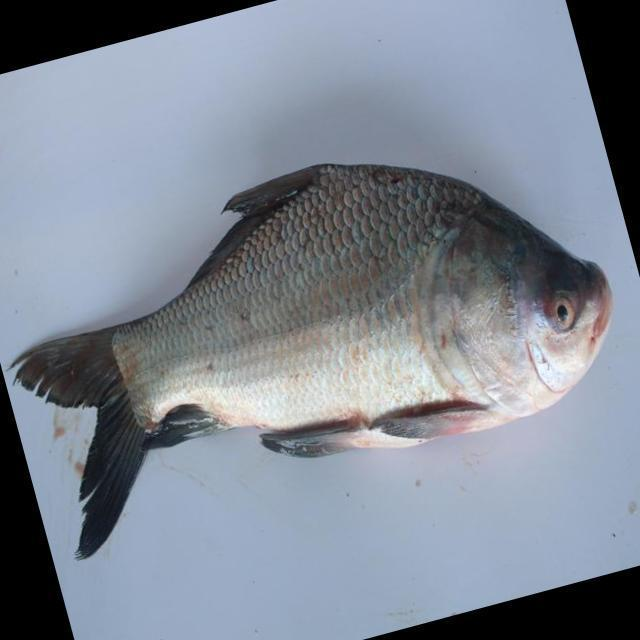Catla: (12, 162, 616, 561)
